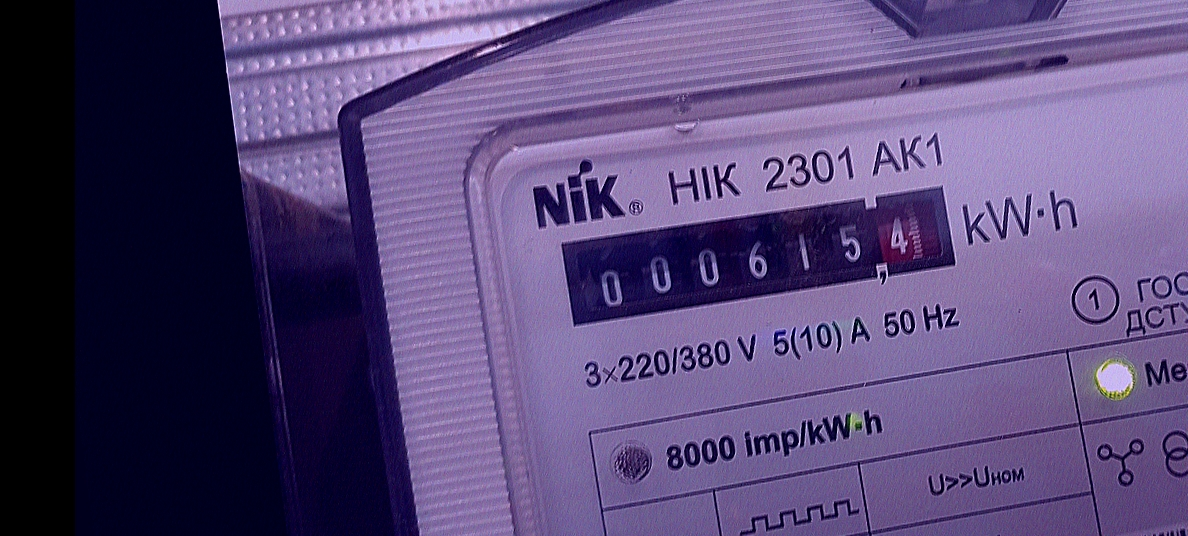0: (694, 244, 724, 289), (597, 264, 627, 308), (647, 251, 675, 294)
1: (796, 229, 814, 272)
4: (886, 213, 911, 256)
5: (837, 220, 865, 264)
6: (743, 237, 772, 280)
screen: (546, 172, 972, 338)
